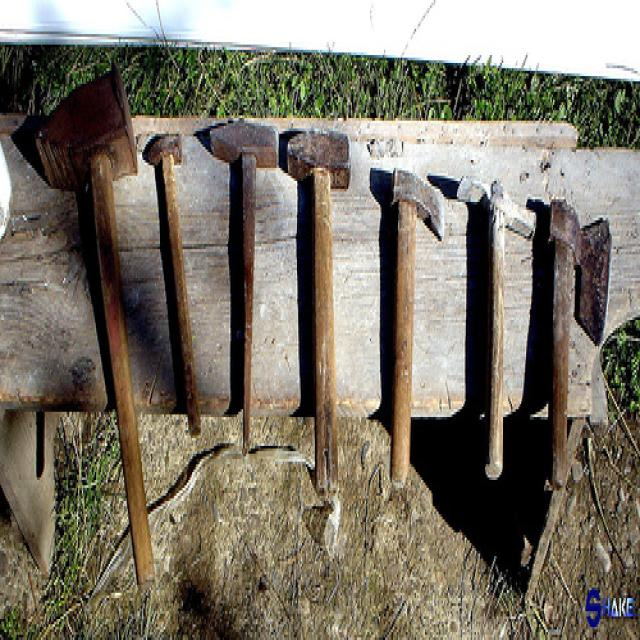hammer: (281, 114, 359, 508), (456, 159, 528, 453)
